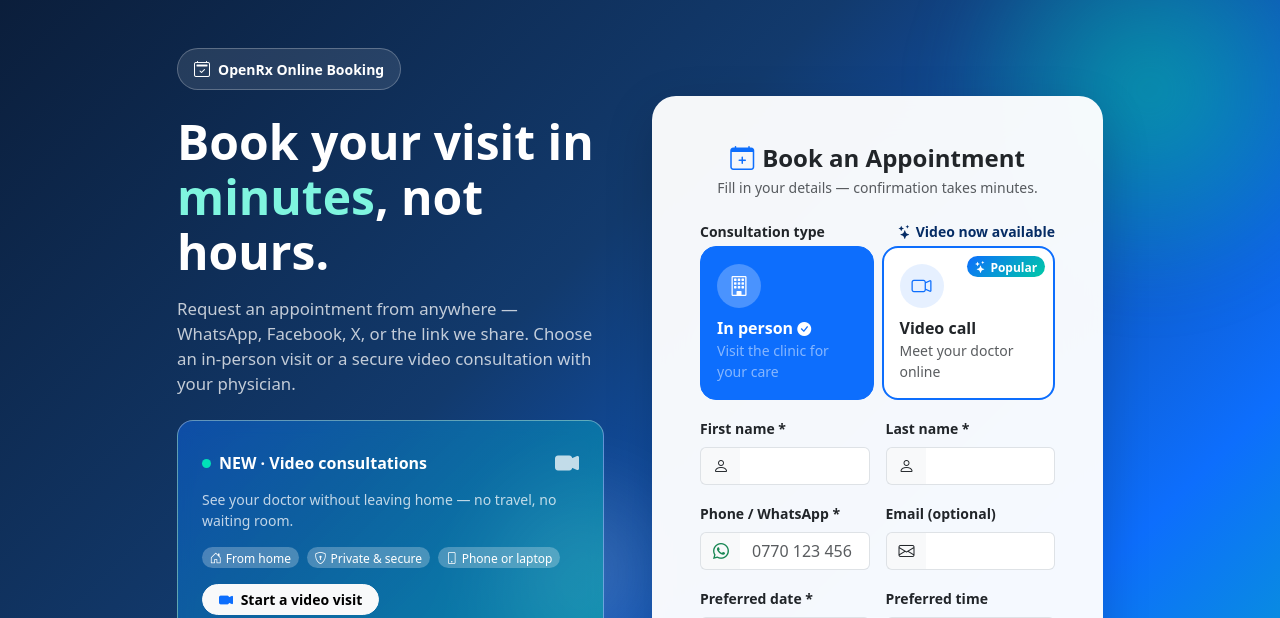
Scenario: BookAppointmentPage — consultation type › promotes video from the hero callout and preselects it
Click the button "Start a video visit".
click(291, 600)  # box x1=202 y1=584 x2=379 y2=615
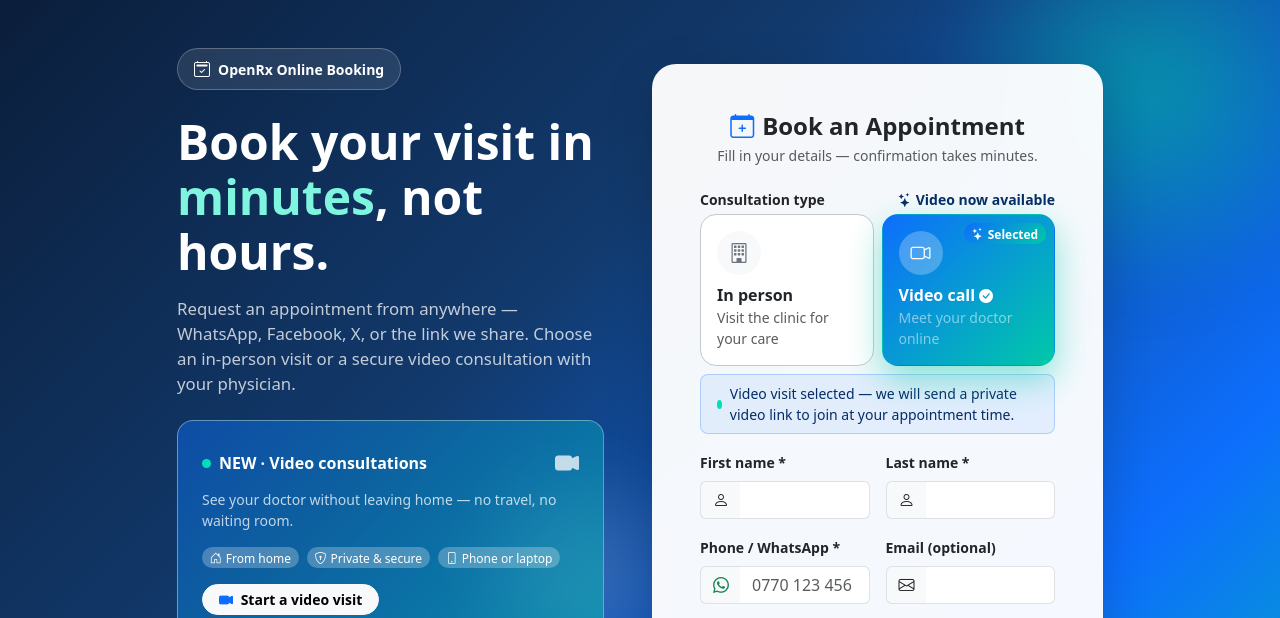
Expected: the text "Selected" is shown, x1=964 y1=224 x2=1046 y2=244
